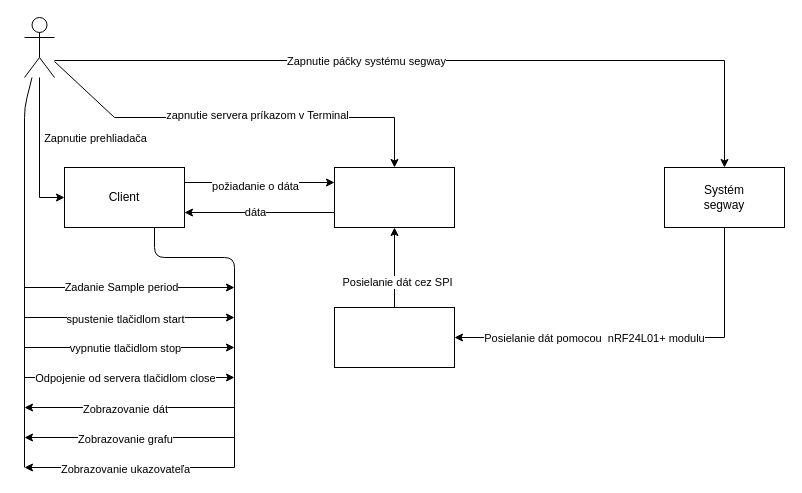
Some shapes in this 802 by 493 pixel diagram are drawn without their labels. Here are the shapes that lost their labels. From the top down, the box of each, then its label:
(334, 166, 454, 228): Server
(334, 306, 454, 368): Arduino
